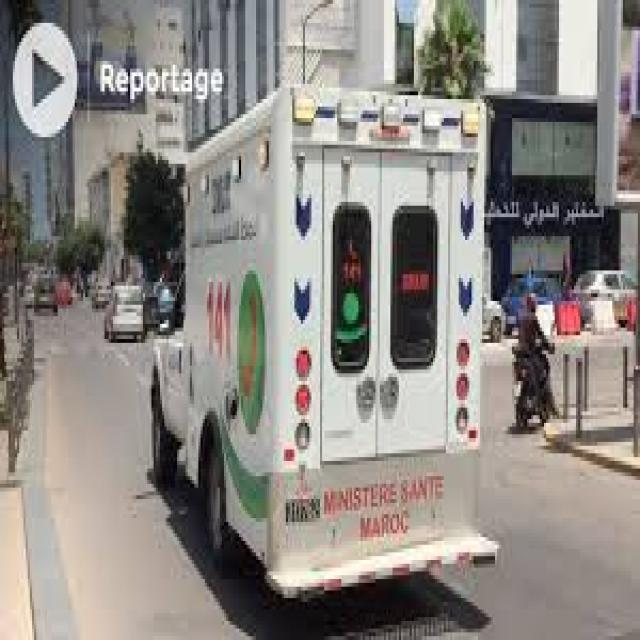ambulance: (133, 78, 513, 620)
